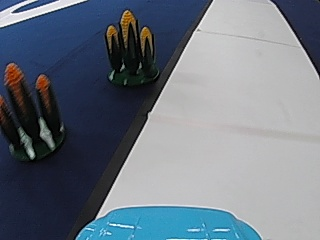corn: (3, 66, 67, 160), (101, 6, 161, 86)
